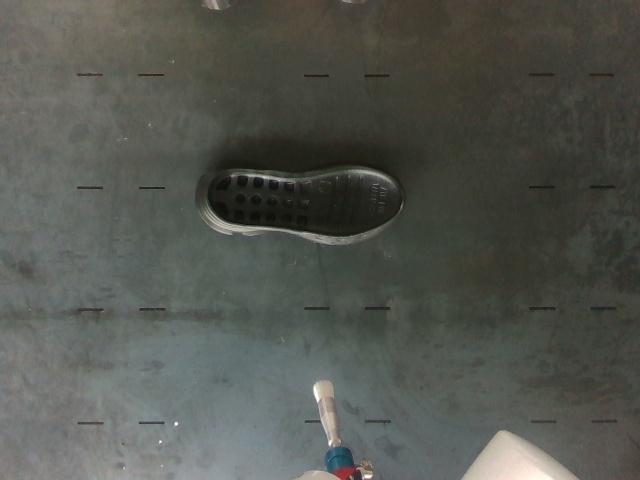shoes: (208, 166, 403, 237)
